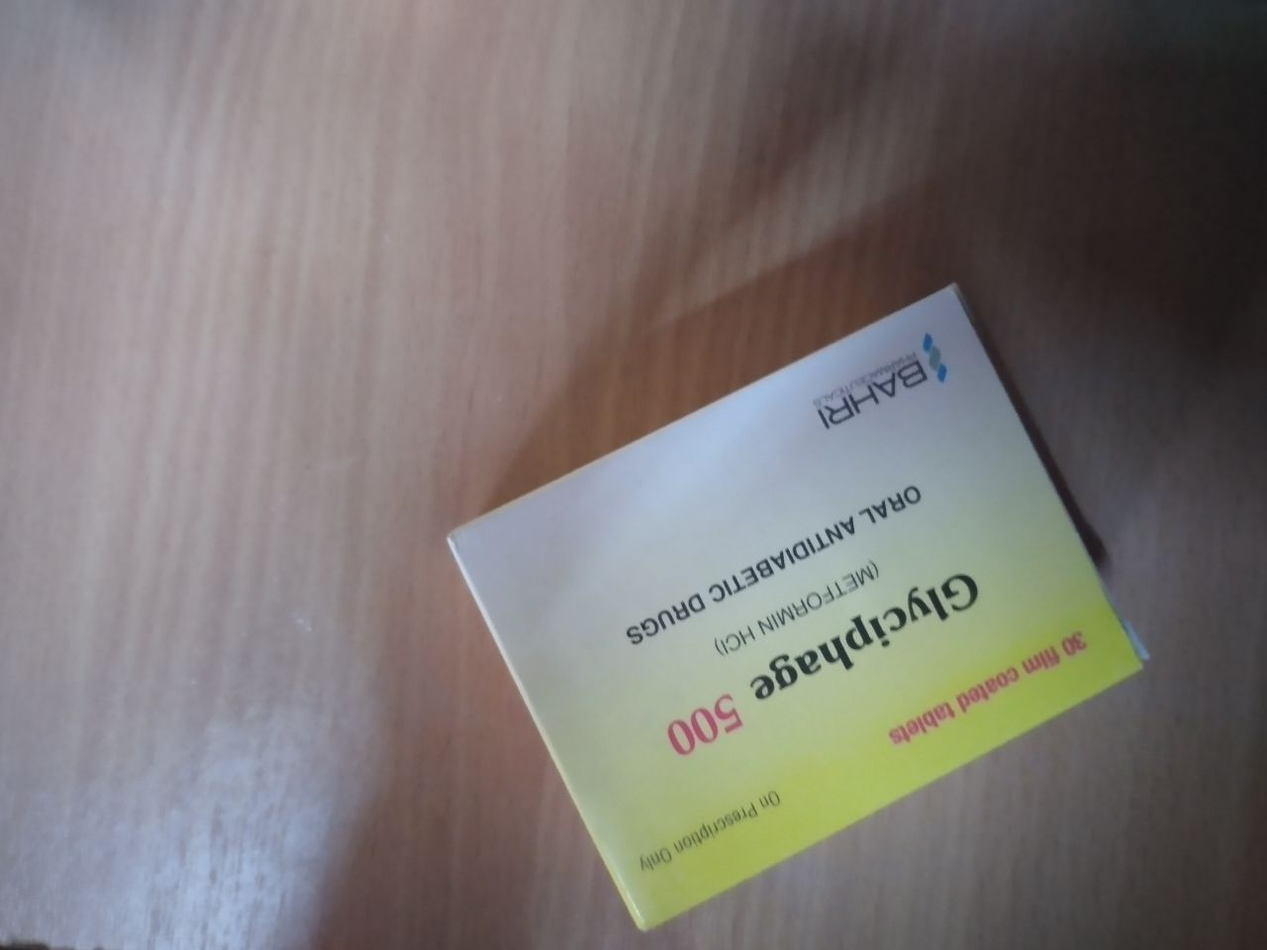Medicine: (445, 282, 1146, 901)
